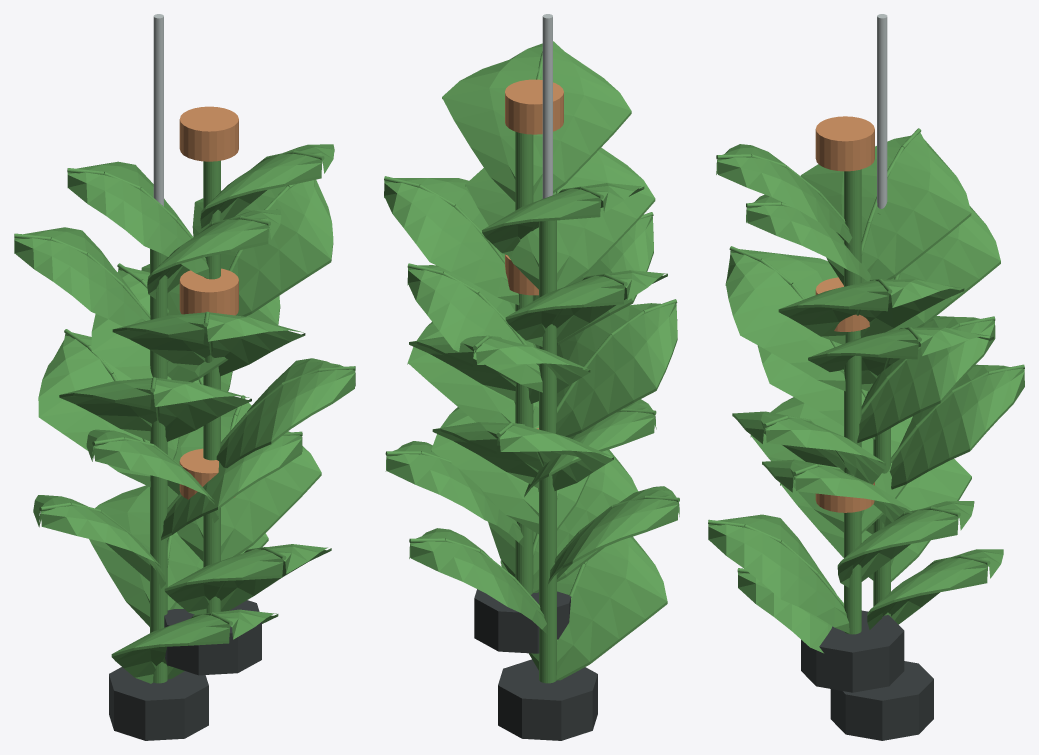
File: generation-ship-hydroponics-generation-ship-hydroponic-79d77524__31473.glb
3 renders of one model, left to right at view 1: azimuth 30°, elevation 25°; view 2: azimuth 150°, elevation 25°; view 3: azimuth 270°, elevation 25°, orthographic.
Parts seen in each view (by area): view 1: generation-ship-hydroponics-climbing-crop-module; view 2: generation-ship-hydroponics-climbing-crop-module; view 3: generation-ship-hydroponics-climbing-crop-module.
Boxes of the visible parts, box(x1,y1,x2,y2) form: generation-ship-hydroponics-climbing-crop-module: box(14, 14, 355, 740); generation-ship-hydroponics-climbing-crop-module: box(384, 14, 679, 740); generation-ship-hydroponics-climbing-crop-module: box(708, 14, 1024, 740).
Size of the model in its own units: 0.4448 by 1.05 by 0.429.
